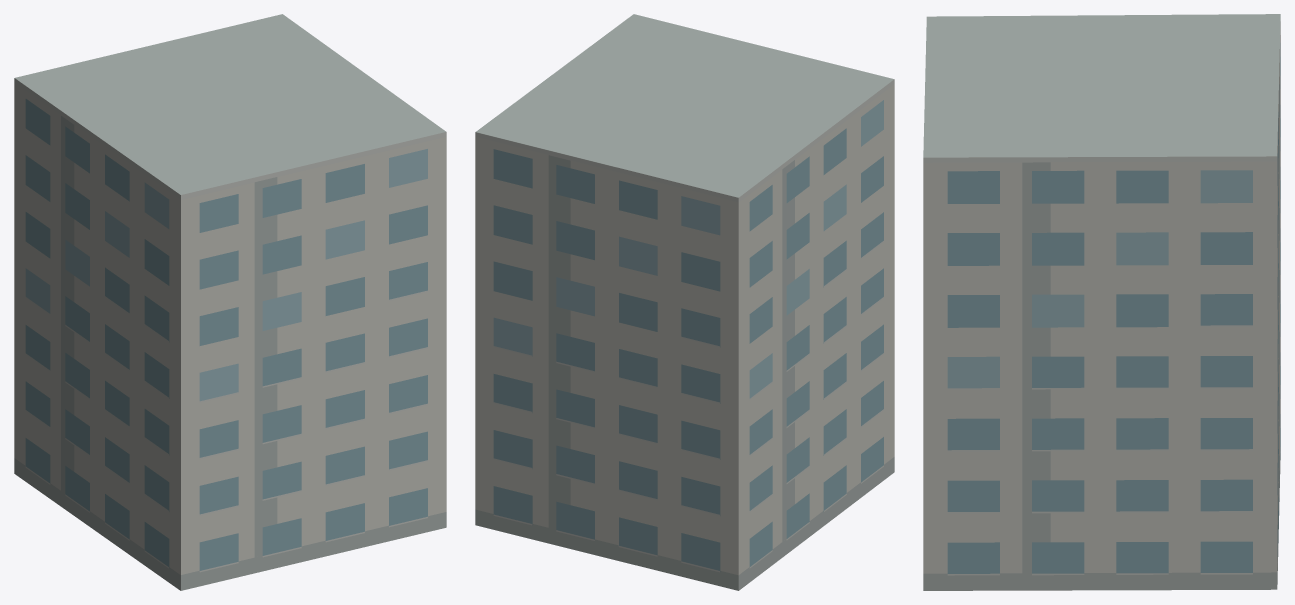
Rendered from survey-upis-32950359.glb.
3 renders of one model, left to right at view 1: azimuth 30°, elevation 25°; view 2: azimuth 150°, elevation 25°; view 3: azimuth 270°, elevation 25°, orthographic. The views are drawn at different scales.
Visible parts, largest first — view 1: survey-upis-32950359.tmp; view 2: survey-upis-32950359.tmp; view 3: survey-upis-32950359.tmp.
Part boxes in pixels (x1,y1,x2,y2): survey-upis-32950359.tmp: (14,14,446,590); survey-upis-32950359.tmp: (475,14,894,590); survey-upis-32950359.tmp: (923,14,1280,590).
Bounding box in the file's own units: 14.35 × 20.17 × 15.09.
